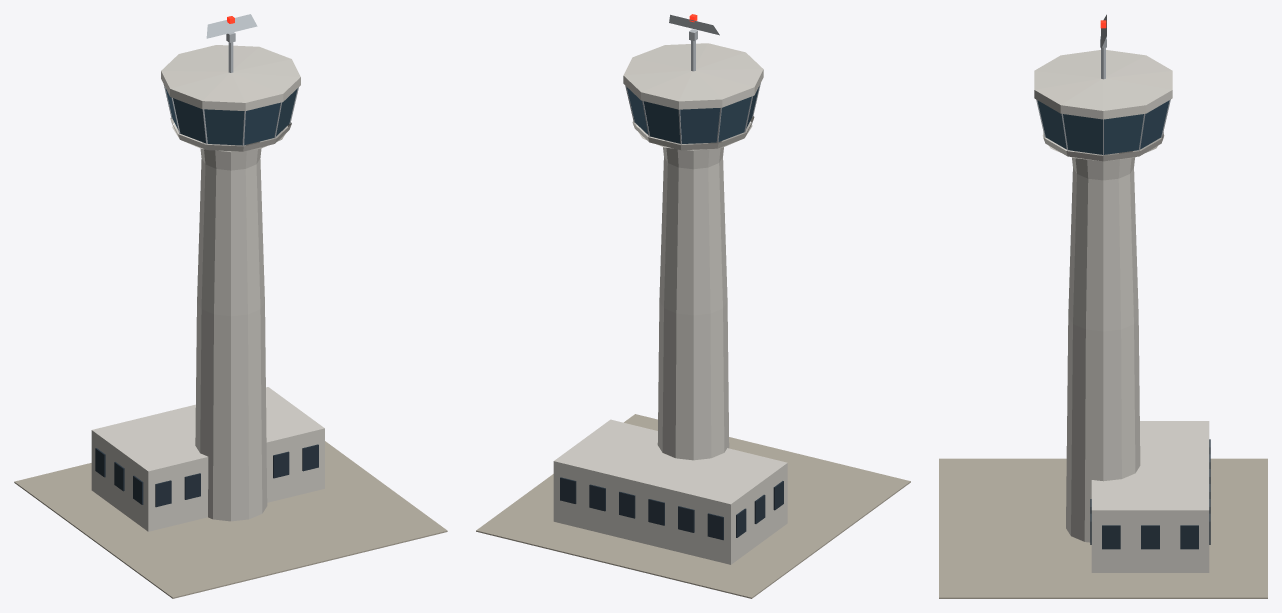
The model's file is control_tower.glb.
The picture shows the model from 3 angles, left to right: view 1: azimuth 30°, elevation 25°; view 2: azimuth 150°, elevation 25°; view 3: azimuth 270°, elevation 25°; orthographic projection. The views are drawn at different scales.
Parts seen in each view (by area): view 1: Control_static, spinY_s120_radar; view 2: Control_static; view 3: Control_static.
Boxes of the visible parts, x1,y1,x2,y2 form: Control_static: (14,16,447,598); spinY_s120_radar: (206,14,257,42); Control_static: (476,14,910,598); Control_static: (939,20,1267,598).
Size of the model in its own units: 28 by 47.7 by 28.
